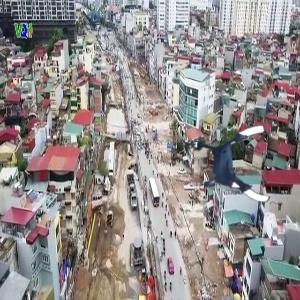drone: (194, 128, 278, 212)
